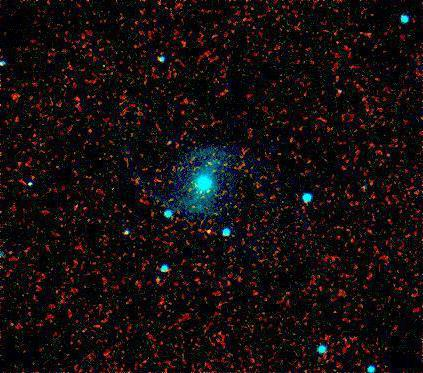star: (192, 218, 222, 248)
